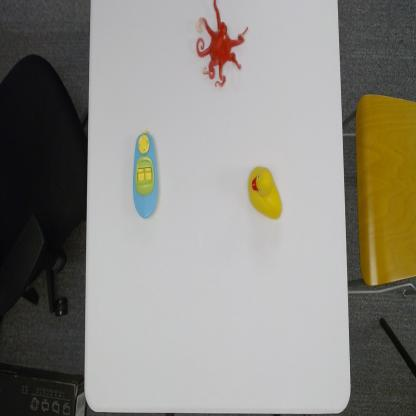Boat: (132, 127, 160, 220)
Duck: (246, 162, 284, 223)
Octopus: (195, 0, 249, 89)
